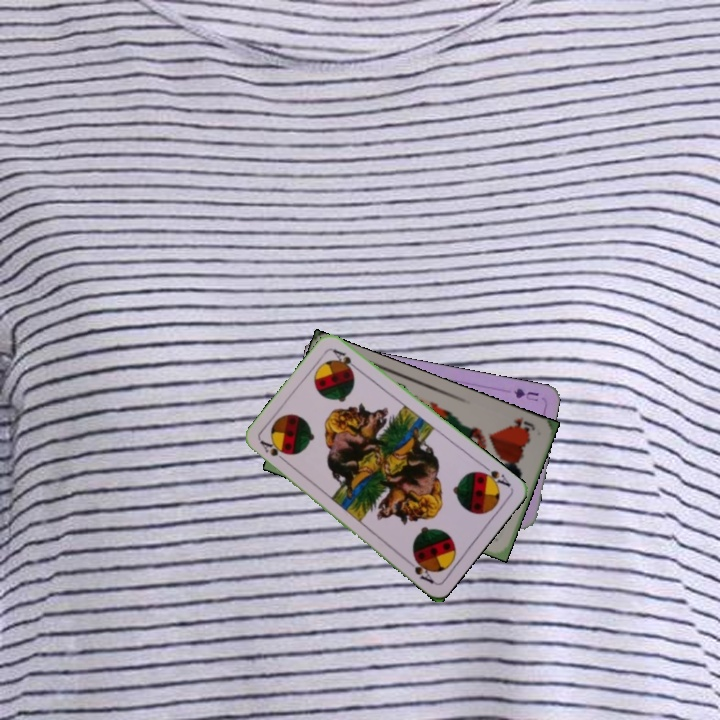GU: (510, 384, 541, 404)
HO: (505, 413, 538, 436)
SA: (474, 461, 513, 491), (256, 436, 291, 466)
